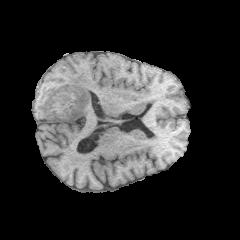glioma: (38, 71, 97, 121)
